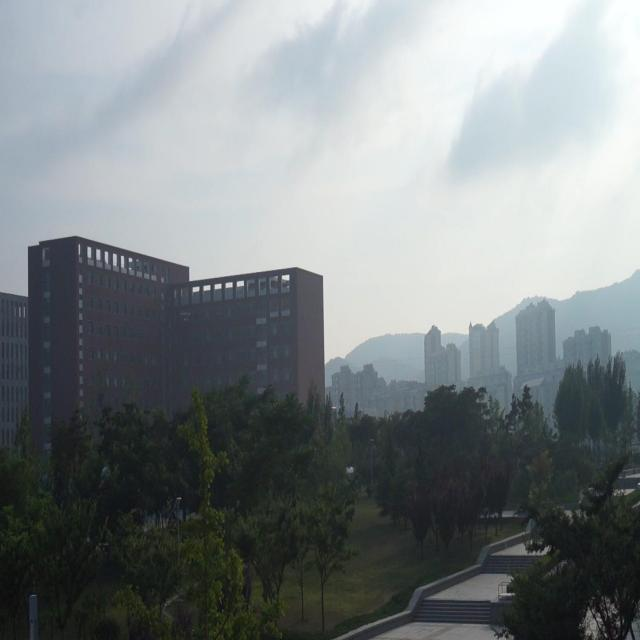UAV: (178, 312, 190, 322)
